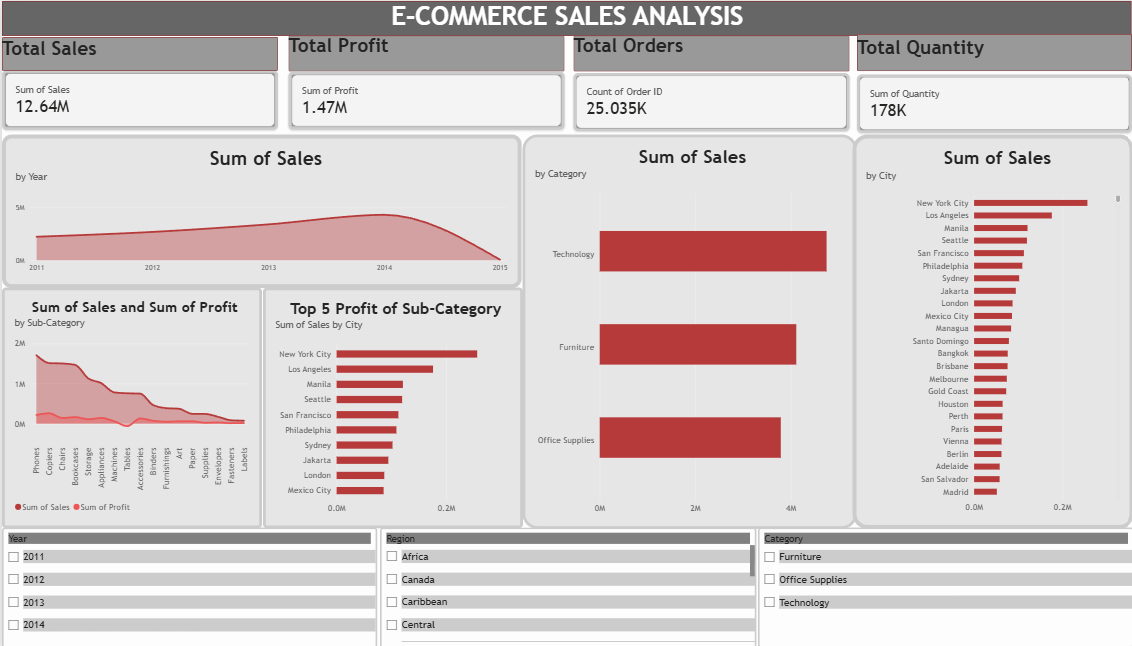

Layout of this report page (visuals, bound fields, positions):
{"tool":"powerbi","page":{"name":"Page 1","canvas":[1920,1080],"ordinal":0},"visuals":[{"type":"shape","box":[0,0,1884,58],"z":0},{"type":"textbox","box":[0,0,1883.9,58.7],"z":1000},{"type":"cardVisual","fields":{"Data":["Sum(Orders.Sales)"]},"box":[0,115,460,100],"z":2000},{"type":"shape","box":[0,60.9,460.3,56.4],"z":3000},{"type":"shape","box":[478,58,460,60],"z":4000},{"type":"shape","box":[952,58,460,60],"z":5000},{"type":"shape","box":[1424,56,460,62],"z":6000},{"type":"textbox","box":[0,60.9,460.3,56.4],"z":7000},{"type":"textbox","box":[478,56,460,62],"z":8000},{"type":"textbox","box":[952,56,460,62],"z":9000},{"type":"textbox","box":[1424,58,460,60],"z":10000},{"type":"cardVisual","fields":{"Data":["Sum(Orders.Profit)"]},"box":[478,118,460.3,97],"z":11000},{"type":"cardVisual","fields":{"Data":["Count(Orders.Order ID)"]},"box":[952,120,460.3,97],"z":12000},{"type":"cardVisual","fields":{"Data":["Sum(Orders.Quantity)"]},"box":[1424,122,460.3,97],"z":13000},{"type":"areaChart","fields":{"Category":["Orders.Ship Date.Variation.Date Hierarchy.Year"],"Y":["Sum(Orders.Sales)"]},"box":[0,221.7,866.3,256],"z":14000},{"type":"barChart","fields":{"Category":["Orders.Category"],"Y":["Sum(Orders.Sales)"]},"box":[867.5,222.5,557.5,657.5],"z":15000},{"type":"barChart","fields":{"Category":["Orders.City"],"Y":["Sum(Orders.Sales)"]},"box":[1417.5,222.5,470,657.5],"z":16000},{"type":"areaChart","fields":{"Category":["Orders.Sub-Category"],"Y":["Sum(Orders.Sales)","Sum(Orders.Profit)"]},"box":[0,477.7,433.2,401.6],"z":17000},{"type":"barChart","title":"Top 5 Profit of Sub-Category","fields":{"Category":["Orders.City"],"Y":["Sum(Orders.Sales)"]},"box":[434.3,477.7,433.2,401.6],"z":18000},{"type":"slicer","fields":{"Values":["Orders.Order Date.Variation.Date Hierarchy.Year"]},"box":[0,877.5,625,202.5],"z":19000},{"type":"slicer","fields":{"Values":["Orders.Region"]},"box":[630,877.5,627.5,202.5],"z":19001},{"type":"slicer","fields":{"Values":["Orders.Category"]},"box":[1260,877.5,628,202],"z":19002}]}

Visuals, with their boxes in screenshot pixels (x1, y1, x2, y2), scaled from the page's 1920x1080 canvas onto the 1132x646 screenshot:
shape: [left=0, top=0, right=1111, bottom=35]
textbox: [left=0, top=0, right=1111, bottom=35]
cardVisual - Sum(Orders.Sales): [left=0, top=69, right=271, bottom=129]
shape: [left=0, top=36, right=271, bottom=70]
shape: [left=282, top=35, right=553, bottom=71]
shape: [left=561, top=35, right=832, bottom=71]
shape: [left=840, top=33, right=1111, bottom=71]
textbox: [left=0, top=36, right=271, bottom=70]
textbox: [left=282, top=33, right=553, bottom=71]
textbox: [left=561, top=33, right=832, bottom=71]
textbox: [left=840, top=35, right=1111, bottom=71]
cardVisual - Sum(Orders.Profit): [left=282, top=71, right=553, bottom=129]
cardVisual - Count(Orders.Order ID): [left=561, top=72, right=833, bottom=130]
cardVisual - Sum(Orders.Quantity): [left=840, top=73, right=1111, bottom=131]
areaChart - Orders.Ship Date.Variation.Date Hierarchy.Year x Sum(Orders.Sales): [left=0, top=133, right=511, bottom=286]
barChart - Orders.Category x Sum(Orders.Sales): [left=511, top=133, right=840, bottom=526]
barChart - Orders.City x Sum(Orders.Sales): [left=836, top=133, right=1113, bottom=526]
areaChart - Orders.Sub-Category x Sum(Orders.Sales): [left=0, top=286, right=255, bottom=526]
"Top 5 Profit of Sub-Category" barChart: [left=256, top=286, right=511, bottom=526]
slicer - Orders.Order Date.Variation.Date Hierarchy.Year: [left=0, top=525, right=368, bottom=645]
slicer - Orders.Region: [left=371, top=525, right=741, bottom=645]
slicer - Orders.Category: [left=743, top=525, right=1113, bottom=645]
